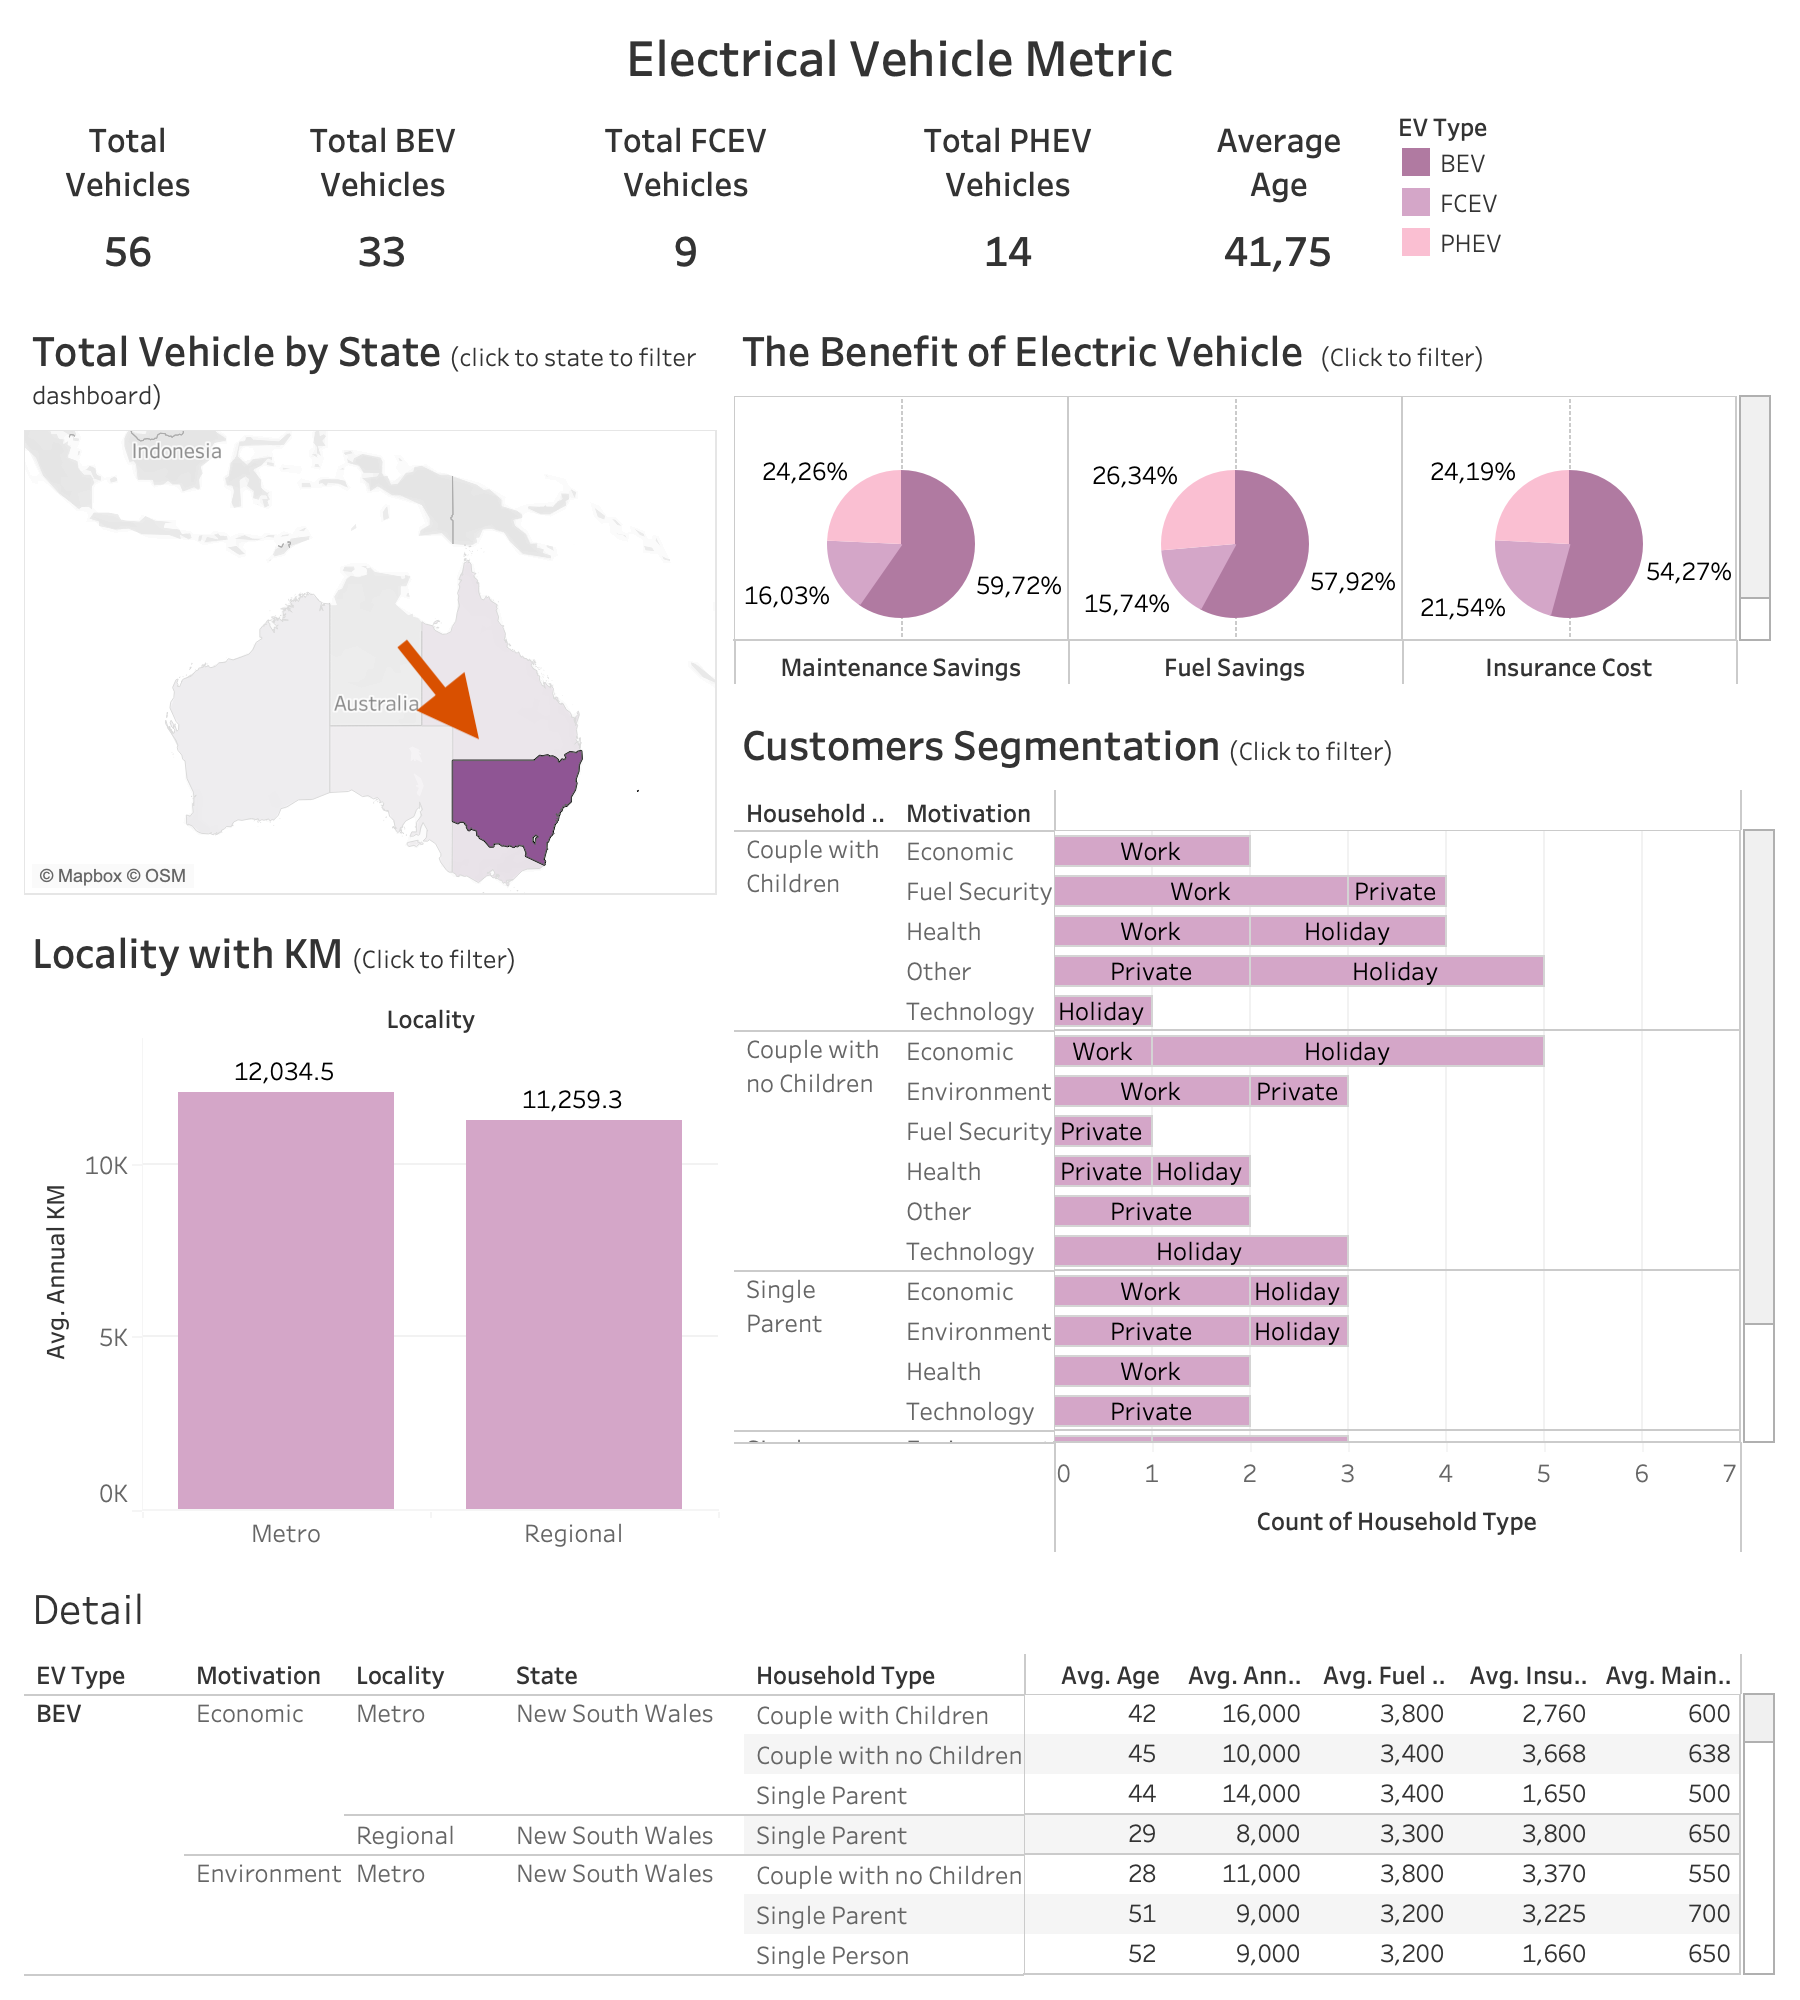

This screenshot's page, from the dashboard's own definition file:
{"tool":"tableau","page":{"name":"Electrical Vehicle Metric","canvas":[900,1000],"ordinal":0},"visuals":[{"type":"title","box":[8,8,884,41]},{"type":"worksheet","title":"Total Vehicles","mark":"Automatic","box":[8,49,112,102.2]},{"type":"worksheet","title":"Sheet 6","mark":"Automatic","box":[120,49,143,102.2]},{"type":"worksheet","title":"Sheet 6 (2)","mark":"Automatic","box":[263,49,160,102.2]},{"type":"worksheet","title":"Sheet 6 (3)","mark":"Automatic","box":[423,49,162,102.2]},{"type":"worksheet","title":"Sheet 5 (2)","mark":"Automatic","box":[585,49,109,102.2]},{"type":"legend","title":"The Benefit of Electric Vehicle","param":"[federated.1on6ux61vwwldr1fl2awk0621yi6].[none:EV_Type:nk]","box":[694,49,198,102.2]},{"type":"legend","title":"Customers Segmentation","param":"[federated.1on6ux61vwwldr1fl2awk0621yi6].[none:Trip_Type:nk]","box":[801,72.5,69.3,22]},{"type":"worksheet","title":"Total Vehicle by State","mark":"Automatic","box":[8,151.2,355.2,301.2]},{"type":"worksheet","title":"The Benefit of Electric Vehicle","mark":"Pie","cols":["Maintenance_Savings","Fuel_Savings","Insurance Cost"],"box":[363.2,151.2,528.8,196.5]},{"type":"worksheet","title":"Customers Segmentation","mark":"Automatic","rows":["Household_Type","Motivation"],"cols":["Household_Type"],"box":[363.2,347.6,528.8,432.5]},{"type":"worksheet","title":"Locality with KM","mark":"Automatic","rows":["Annual_KM"],"cols":["Locality"],"box":[8,452.3,355.2,327.8]},{"type":"worksheet","title":"Detail","mark":"Automatic","rows":["EV_Type","Motivation","Locality","State","Household_Type"],"box":[8,780.1,884,211.9]}]}

Visuals, with their boxes in screenshot pixels (x1, y1, x2, y2), scaled from the page's 900x1000 canvas onto the 1800x2000 screenshot:
title: 16/16/1784/98
"Total Vehicles" worksheet: 16/98/240/302
"Sheet 6" worksheet: 240/98/526/302
"Sheet 6 (2)" worksheet: 526/98/846/302
"Sheet 6 (3)" worksheet: 846/98/1170/302
"Sheet 5 (2)" worksheet: 1170/98/1388/302
"The Benefit of Electric Vehicle" legend: 1388/98/1784/302
"Customers Segmentation" legend: 1602/145/1741/189
"Total Vehicle by State" worksheet: 16/302/726/905
"The Benefit of Electric Vehicle" worksheet (Pie marks): 726/302/1784/695
"Customers Segmentation" worksheet: 726/695/1784/1560
"Locality with KM" worksheet: 16/905/726/1560
"Detail" worksheet: 16/1560/1784/1984
